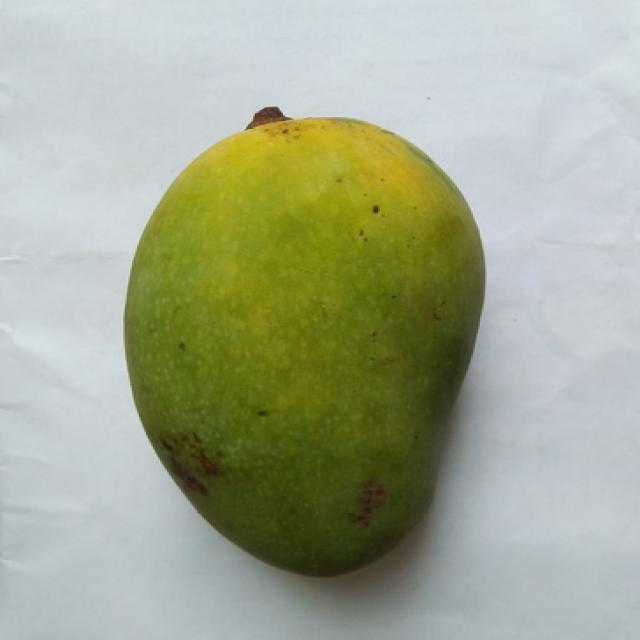Mango: (125, 109, 482, 575)
